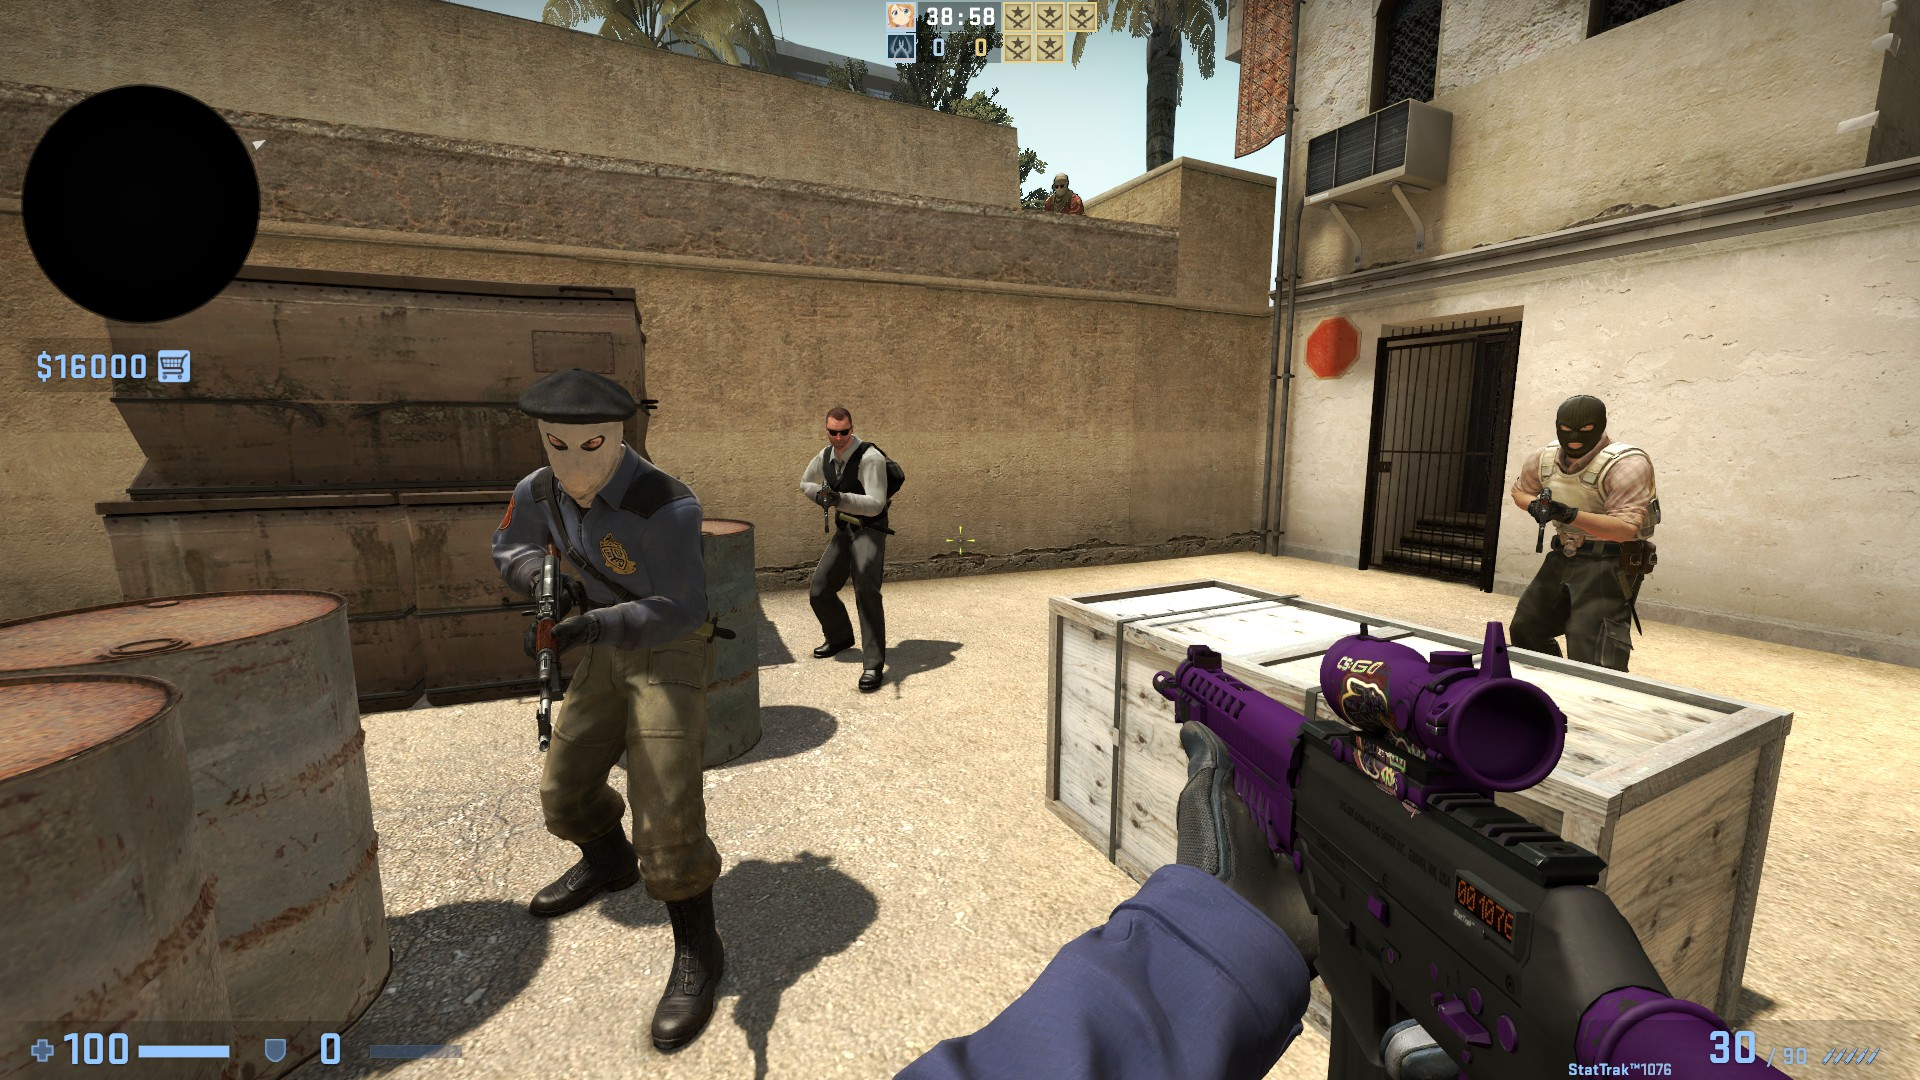head: (518, 367, 635, 497), (1553, 393, 1607, 459), (825, 406, 852, 447)
